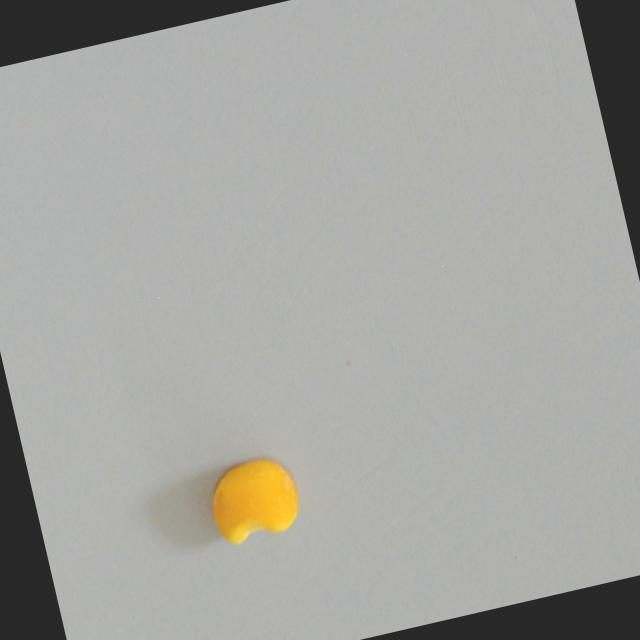no_canjicado: (197, 449, 306, 550)
